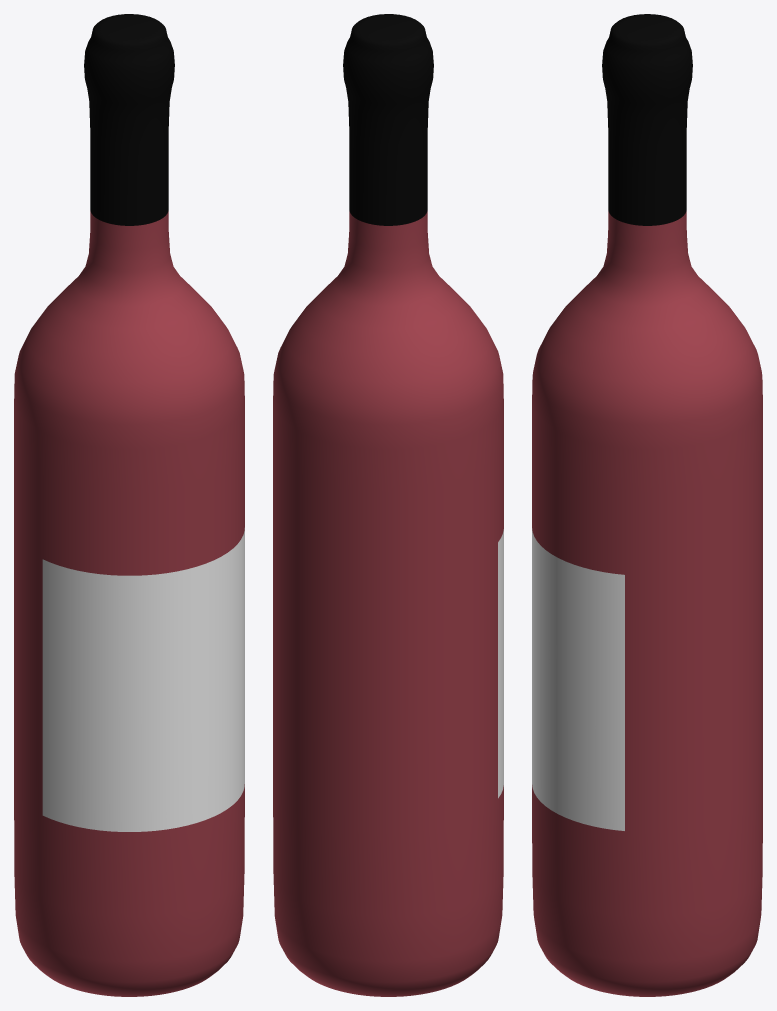
The model's file is wine.glb.
3 renders of one model, left to right at view 1: azimuth 30°, elevation 25°; view 2: azimuth 150°, elevation 25°; view 3: azimuth 270°, elevation 25°, orthographic.
Visible parts, largest first — view 1: Cylinder; view 2: Cylinder; view 3: Cylinder.
Boxes of the visible parts, bbox=[...] form: Cylinder: bbox=[14, 14, 244, 996]; Cylinder: bbox=[273, 14, 503, 996]; Cylinder: bbox=[532, 14, 762, 996].
Bounding box in the file's own units: 0.9298 × 4.14 × 0.9298.
